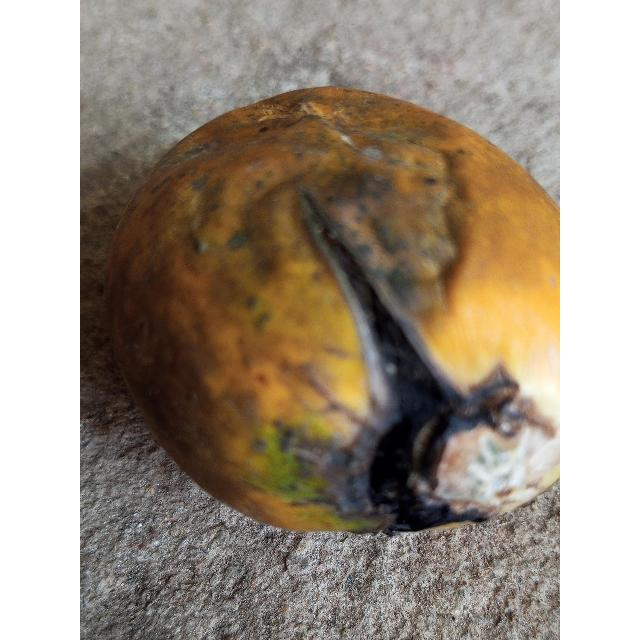damaged: (106, 88, 560, 535)
